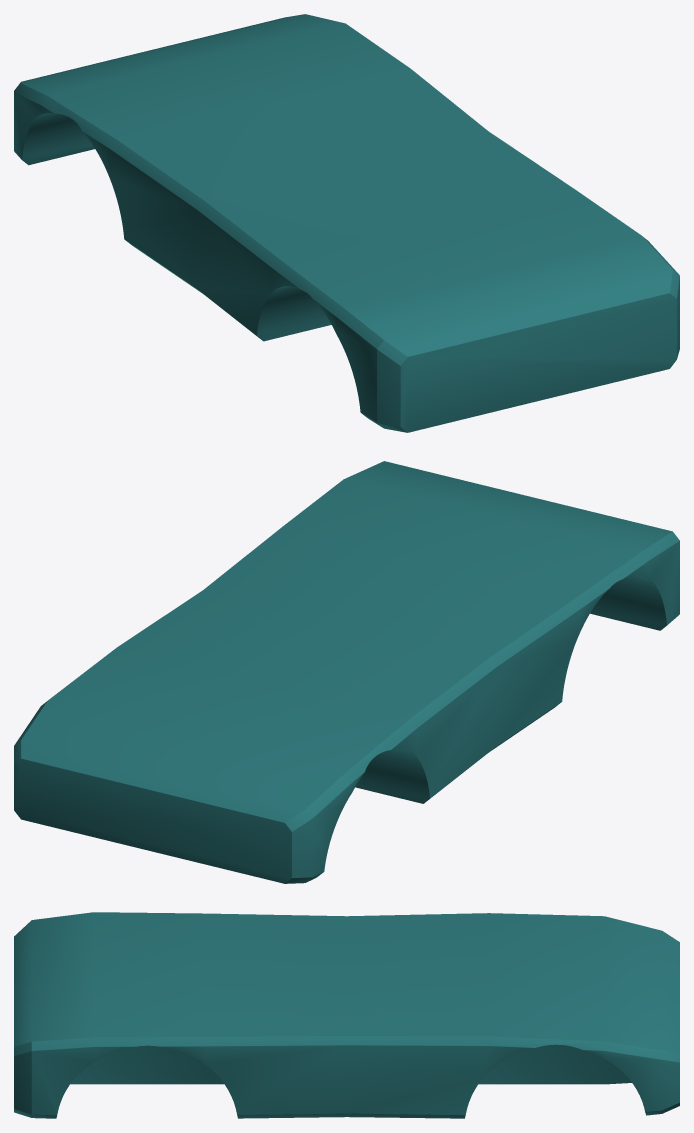
File: Cedar_Coupe_BodyShell_R2.fbx
3 renders of one model, top to bottom at view 1: azimuth 30°, elevation 25°; view 2: azimuth 150°, elevation 25°; view 3: azimuth 270°, elevation 25°, orthographic. The views are drawn at different scales.
Parts seen in each view (by area): view 1: BodyShell; view 2: BodyShell; view 3: BodyShell.
Part boxes in pixels (x1,y1,x2,y2): BodyShell: (14, 14, 679, 432); BodyShell: (14, 461, 679, 883); BodyShell: (14, 912, 679, 1118).
Size of the model in its own units: 7 by 2.05 by 15.
